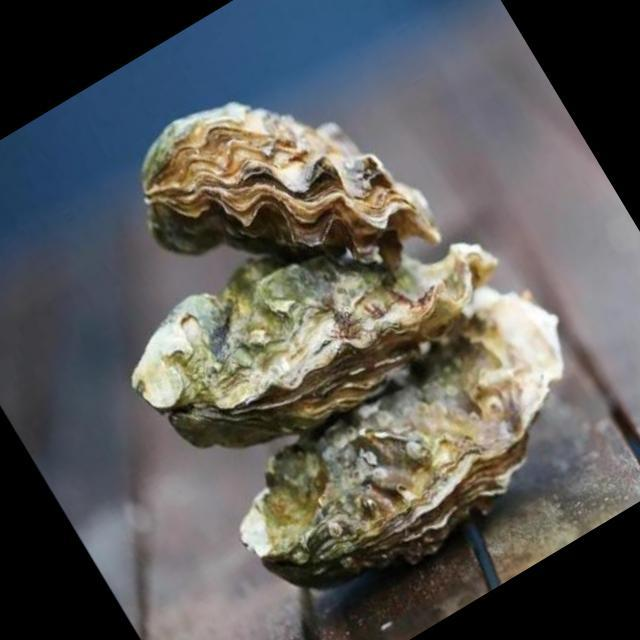Oyster-Closed: (188, 260, 628, 638), (98, 142, 526, 506), (98, 19, 454, 372)
